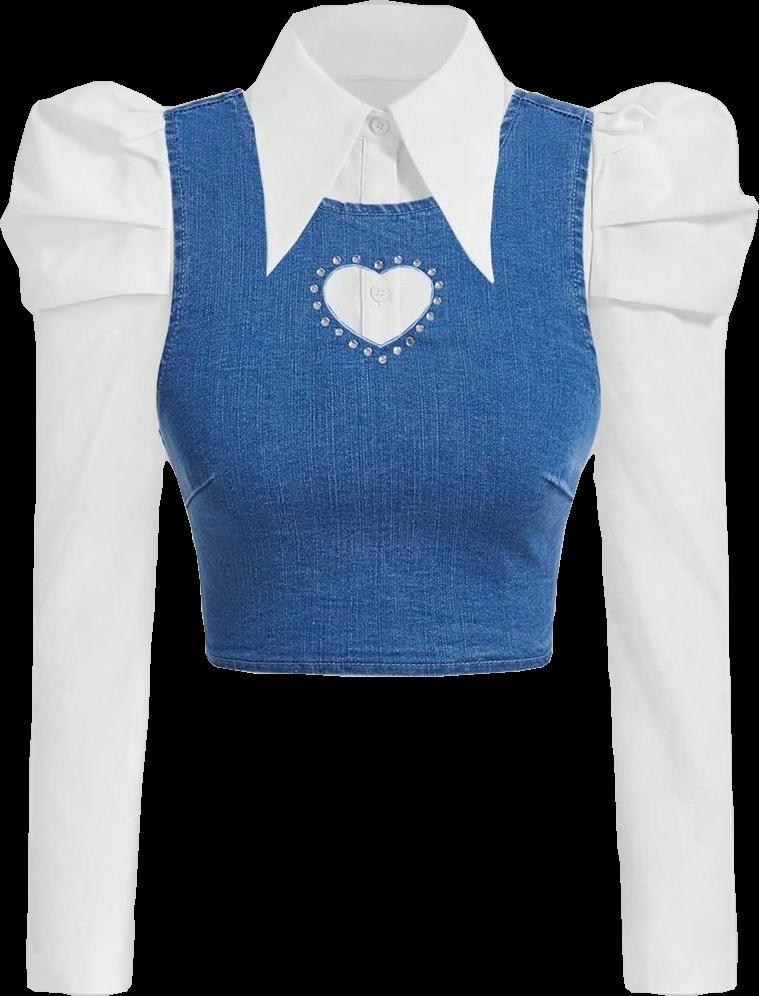Bodice: (156, 0, 600, 676)
Neckline: (280, 12, 479, 117)
Sleeve: (0, 81, 173, 994), (587, 83, 758, 995)
Sleeveline: (581, 108, 604, 317), (156, 103, 176, 336)
Waistline: (244, 82, 515, 290), (197, 650, 557, 680)
